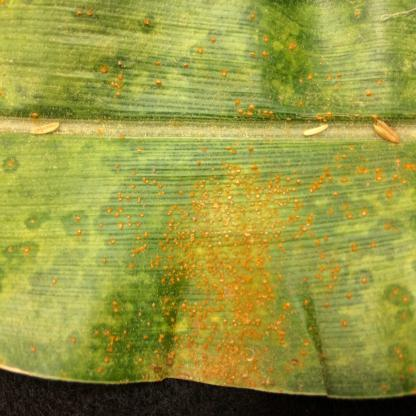corn rust leaf: (0, 1, 413, 411)
